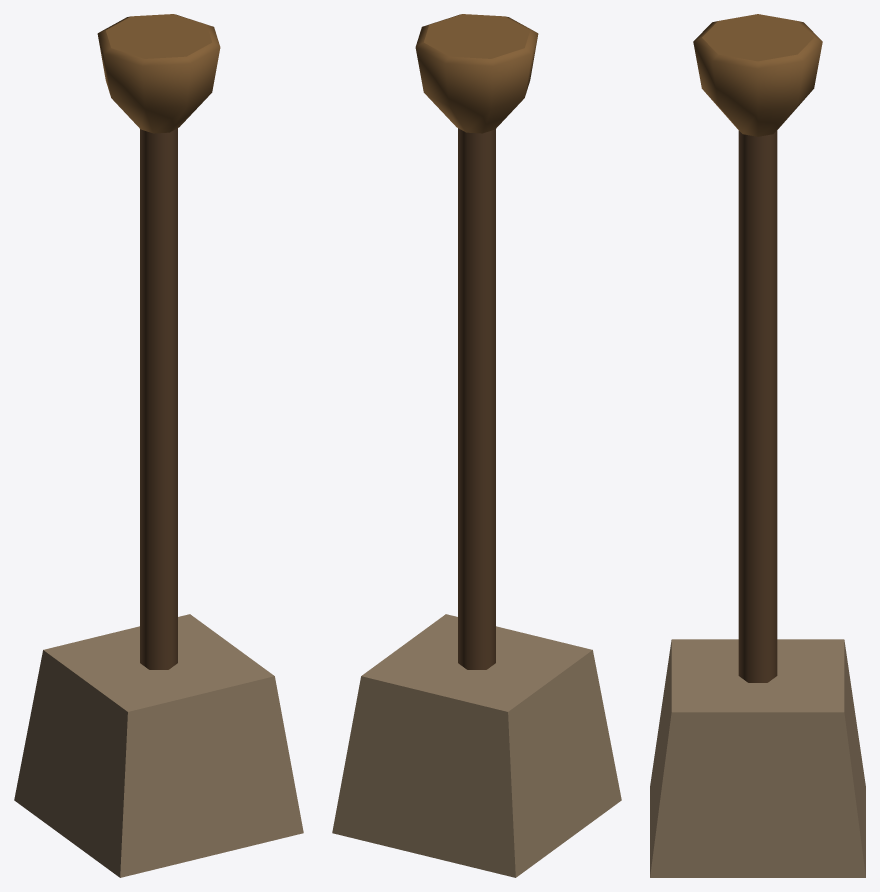
File: torch_stand.glb
3 views of the same model, side by side, from view 1: azimuth 30°, elevation 25°; view 2: azimuth 150°, elevation 25°; view 3: azimuth 270°, elevation 25° (orthographic).
Parts seen in each view (by area): view 1: torch_stand; view 2: torch_stand; view 3: torch_stand.
Boxes of the visible parts, x1,y1,x2,y2 form: torch_stand: (14,14,303,877); torch_stand: (332,14,621,877); torch_stand: (650,14,865,877).
Size of the model in its own units: 0.5 by 2.03 by 0.5.
